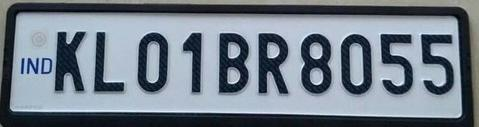0: (338, 31, 374, 96), (135, 30, 170, 92)
1: (179, 29, 209, 96)
5: (376, 30, 415, 96), (418, 29, 454, 97)
8: (298, 31, 332, 94)
B: (216, 30, 251, 95)
K: (52, 27, 89, 94)
L: (92, 27, 125, 94)
R: (255, 31, 291, 94)
